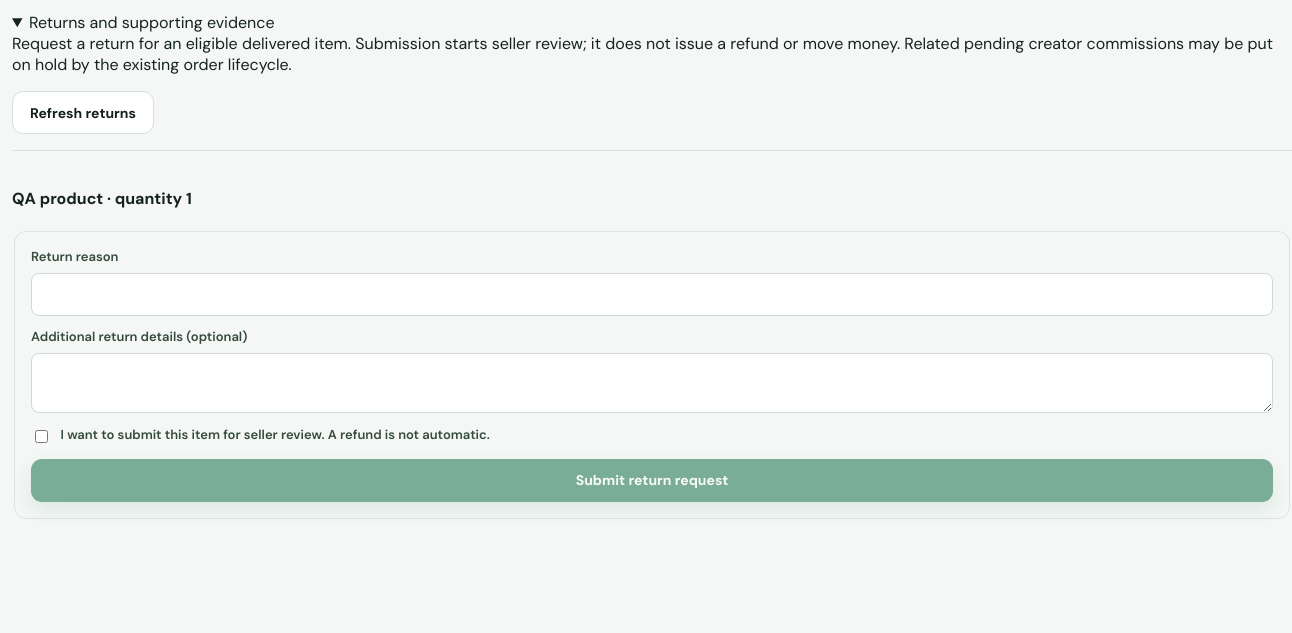
Test: Buyer returns UI › blocks immediate duplicate retry after ambiguous submission
In the field labelled "Return reason": (652, 294) [31,272,1273,316], type "Damaged"
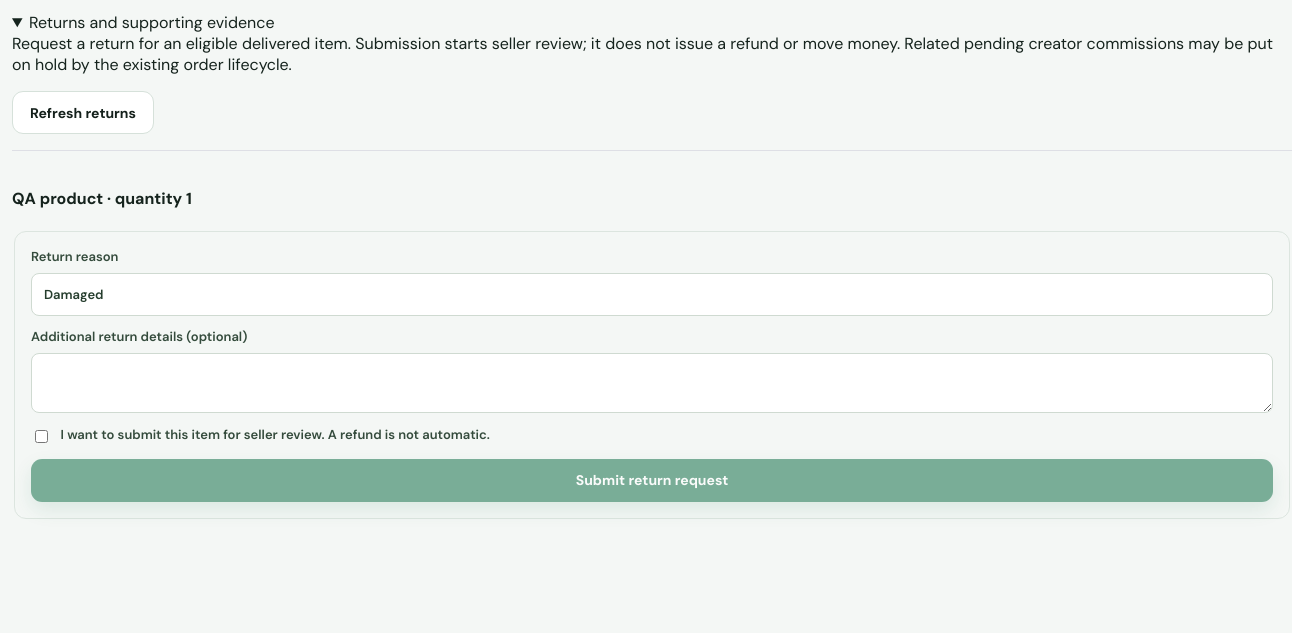
Click the checkbox: (42, 437) [35,430,48,443]
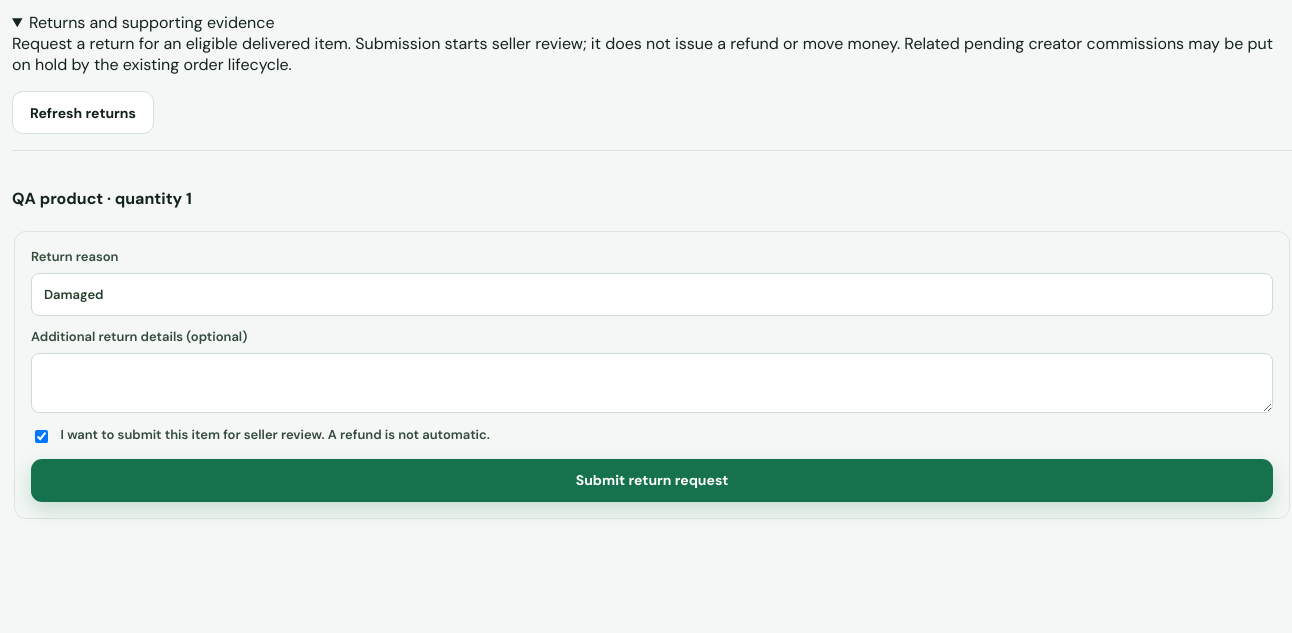
Submit the form labelled "Return reason", box [12,230,1291,519]
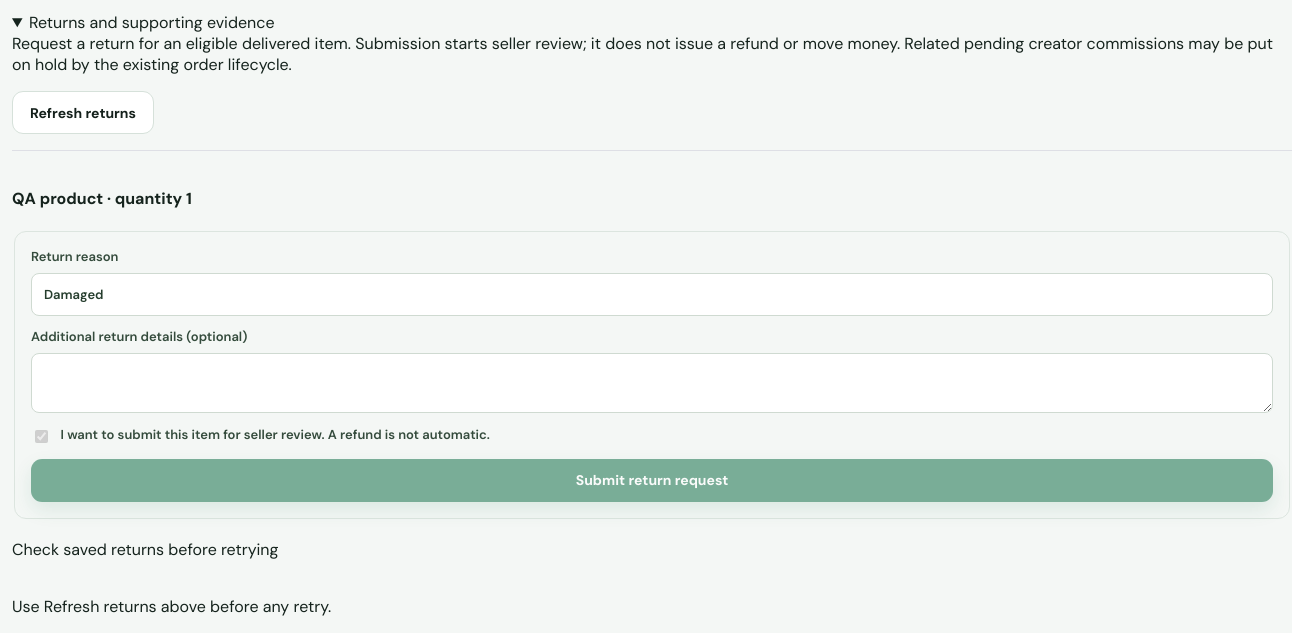
Expected: the button "Submit return request" is disabled, [31,459,1273,502]
Expected: the text "Use Refresh returns above before any retry." is shown, [12,596,331,617]
